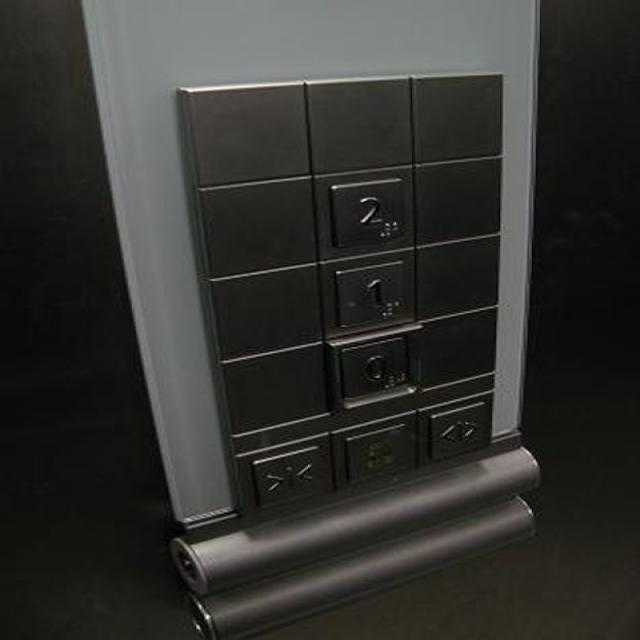0: (334, 333, 409, 401)
1: (328, 257, 408, 330)
2: (325, 174, 408, 250)
blur: (339, 418, 408, 484)
close: (248, 440, 324, 510)
open: (422, 398, 487, 463)
